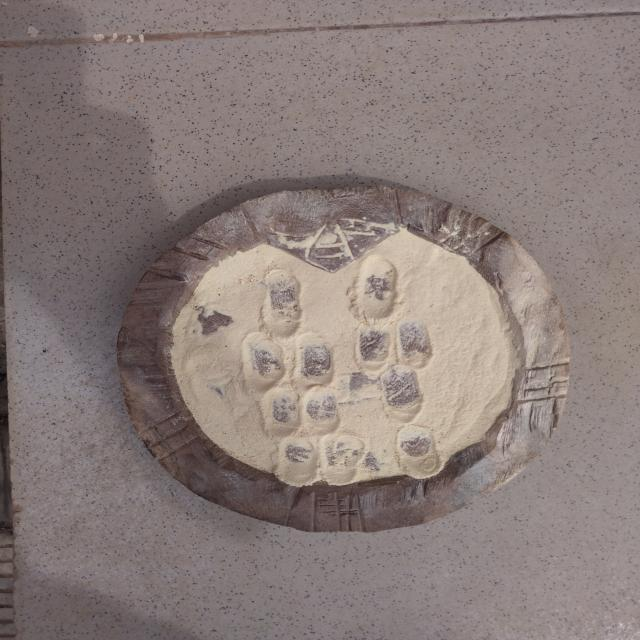double: (235, 331, 336, 390), (273, 430, 370, 486), (350, 314, 434, 371), (257, 386, 344, 436)
single: (350, 254, 402, 322), (258, 268, 307, 338), (393, 424, 448, 479), (377, 366, 429, 419)
